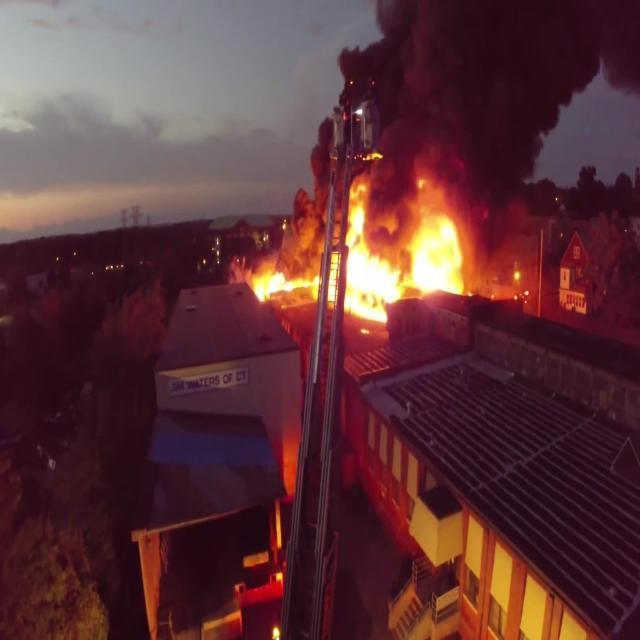Fire: (235, 146, 494, 337)
Smoke: (325, 0, 640, 144)
